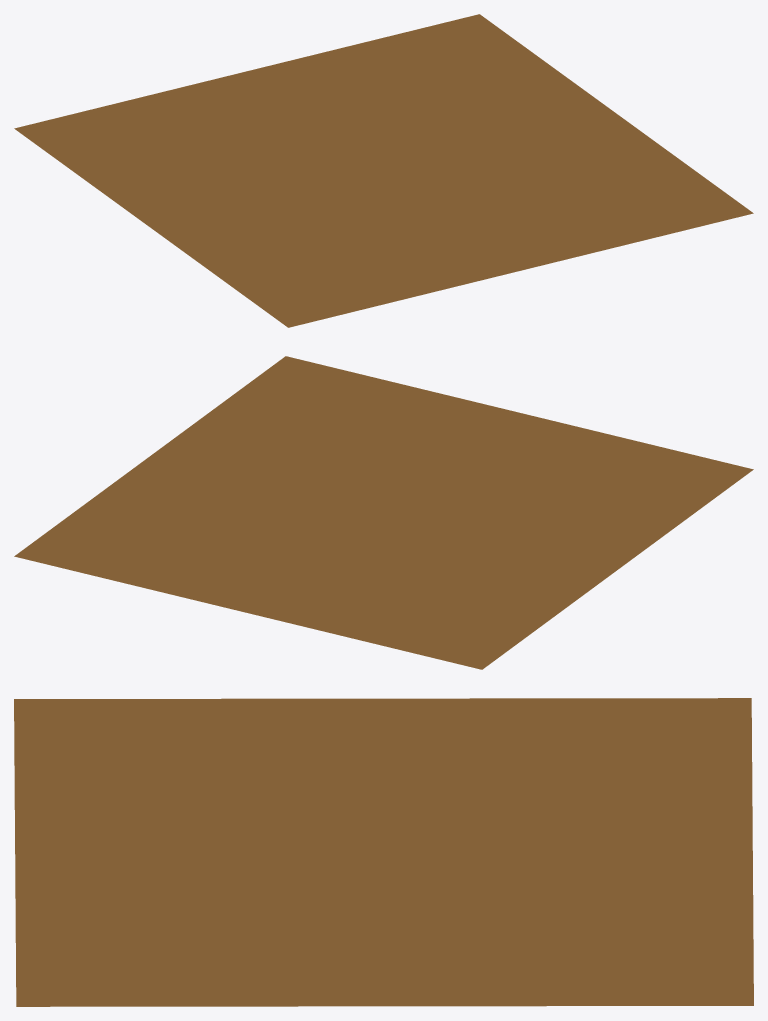
3 views of the same model, one above another, from view 1: azimuth 30°, elevation 25°; view 2: azimuth 150°, elevation 25°; view 3: azimuth 270°, elevation 25° (orthographic). The views are drawn at different scales.
Parts seen in each view (by area): view 1: Plane01; view 2: Plane01; view 3: Plane01.
Part boxes in pixels (x1,y1,x2,y2): Plane01: (14, 14, 753, 327); Plane01: (14, 356, 753, 669); Plane01: (14, 698, 753, 1006).
Bounding box in the file's own units: 488981 × 1.4e-10 × 495284.
